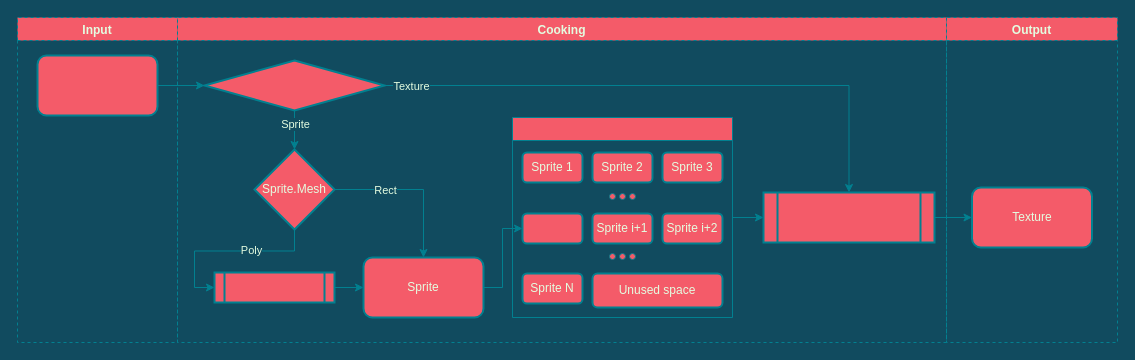
The diagram is 1135 pixels wide and 360 high, and some of its shapes have lost their labels. The shapes that lost their labels are listed below. From the top down, each one's box as (x1, y1, x2, y2) in pixels, then its label:
(36, 54, 158, 116): Image
(203, 59, 385, 111): Image.ImportMode
(521, 212, 583, 244): Sprite i
(512, 116, 732, 318): Sprite Atlas
(762, 191, 935, 243): Format conversion/compression
(213, 271, 335, 303): Polygonize
